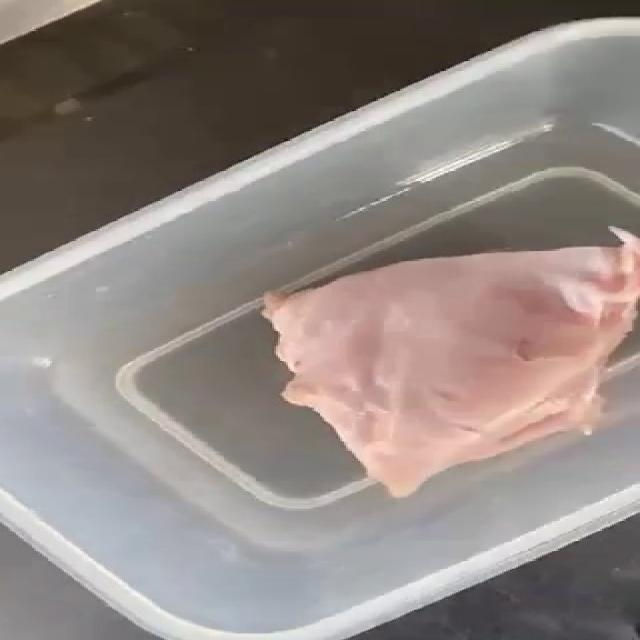chicken: (264, 240, 640, 507)
